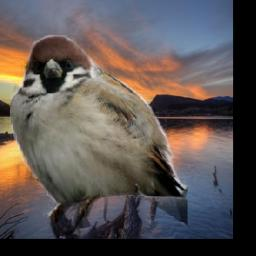Sparrow: (9, 36, 187, 239)
